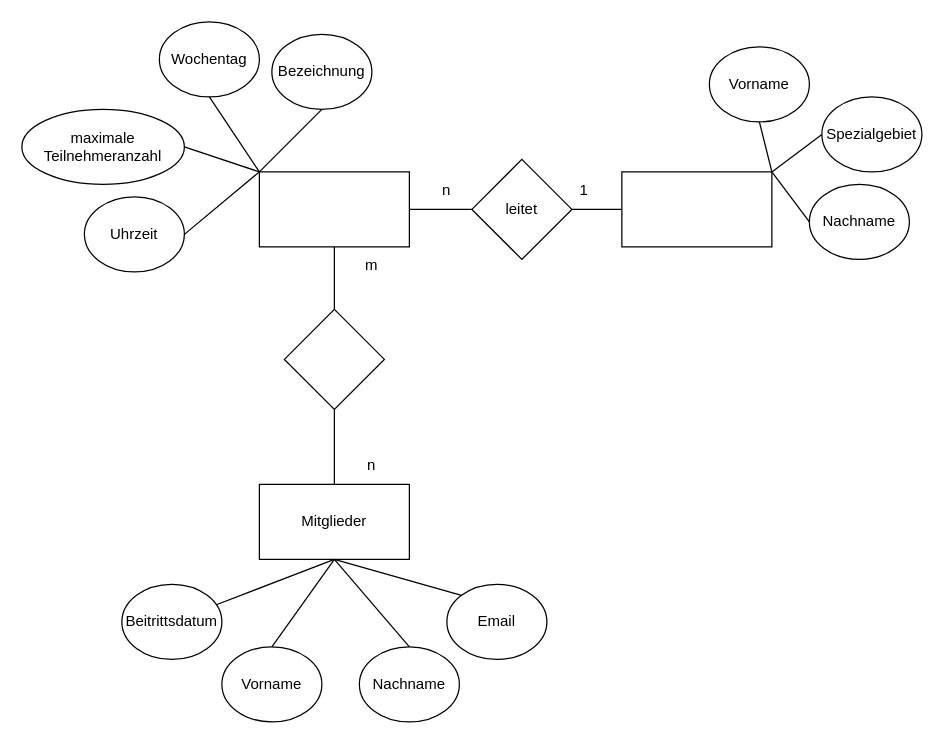
The diagram is 944 pixels wide and 744 high, and some of its shapes have lost their labels. The box of each missing label's shape, as (x1, y1, x2, y2) in pixels:
hat: (283, 308, 384, 409)
Kurse: (258, 171, 409, 247)
Trainer: (621, 171, 772, 247)
